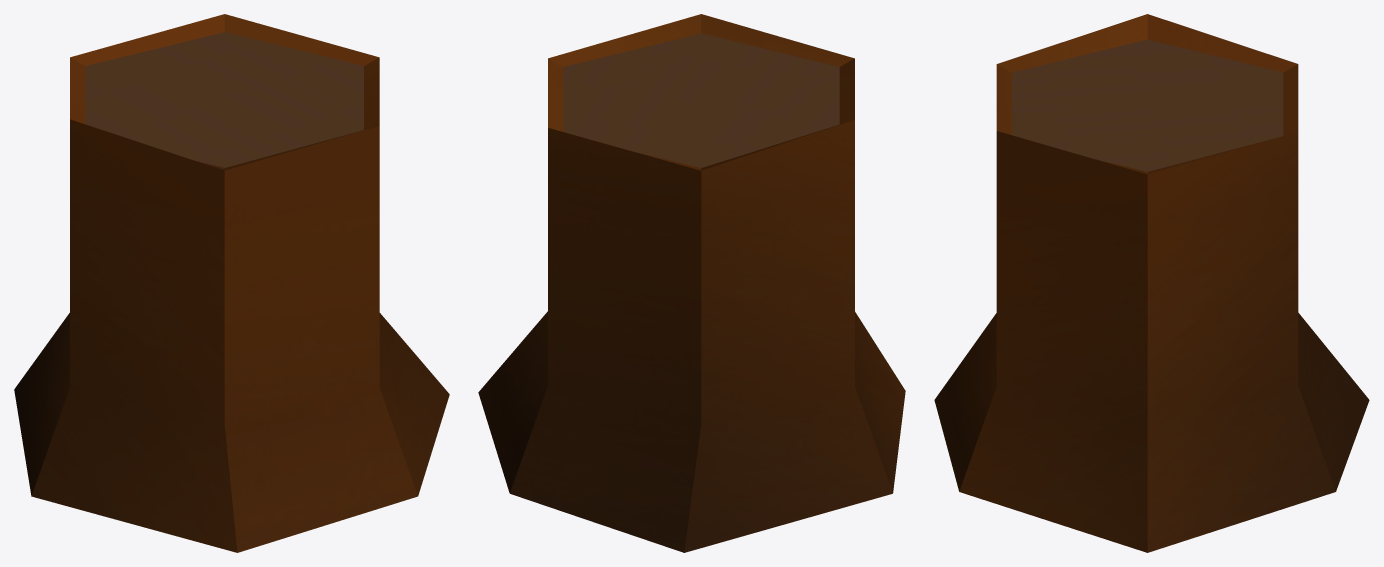
The model's file is Baumstumpfo.fbx.
3 renders of one model, left to right at view 1: azimuth 30°, elevation 25°; view 2: azimuth 150°, elevation 25°; view 3: azimuth 270°, elevation 25°, orthographic. The views are drawn at different scales.
Visible parts, largest first — view 1: Baumstumpfo; view 2: Baumstumpfo; view 3: Baumstumpfo.
Boxes of the visible parts, x1=… form: Baumstumpfo: x1=14, y1=14, x2=449, y2=552; Baumstumpfo: x1=478, y1=14, x2=905, y2=552; Baumstumpfo: x1=934, y1=14, x2=1369, y2=552.
Bounding box in the file's own units: 2.7 × 2.27 × 2.5.
